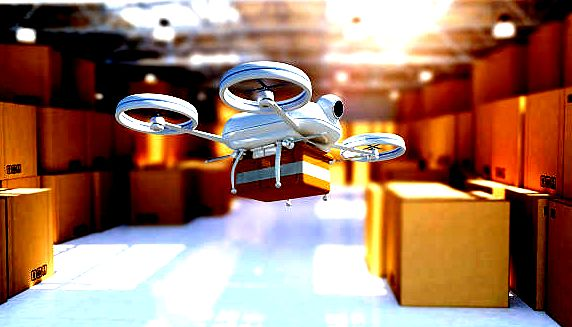Drone: (108, 59, 406, 173)
